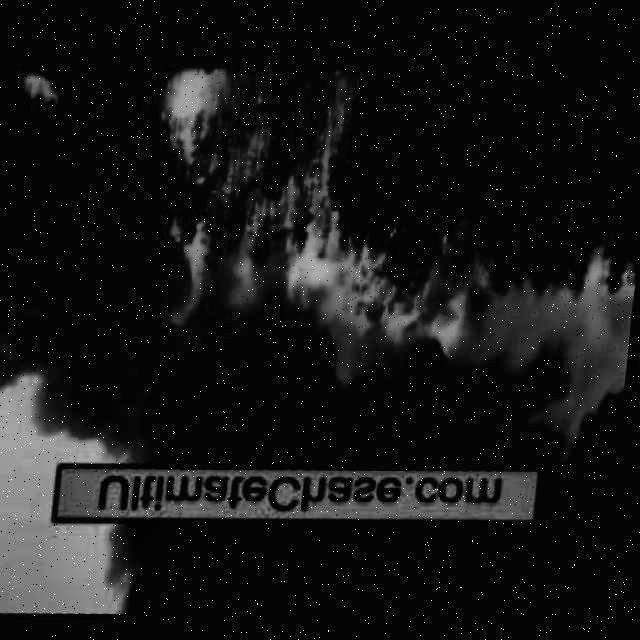Fire: (135, 58, 344, 358), (363, 244, 485, 393), (16, 62, 64, 115)
Smoke: (30, 294, 632, 516), (98, 487, 613, 633)
